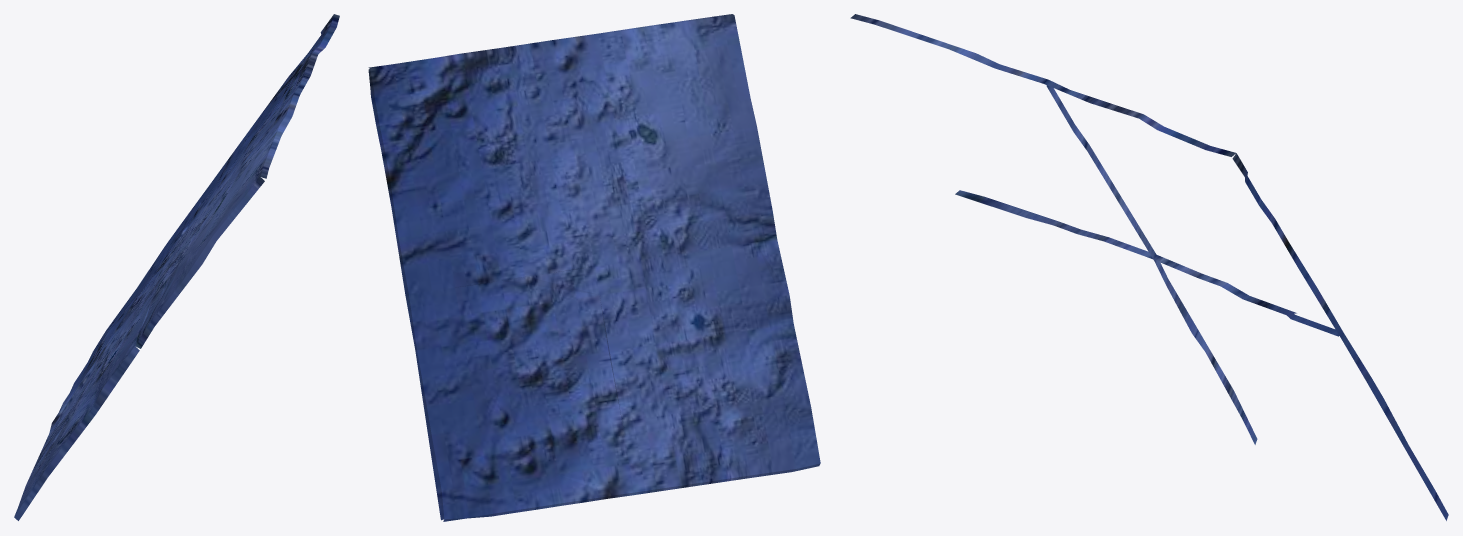
3 renders of one model, left to right at view 1: azimuth 30°, elevation 25°; view 2: azimuth 150°, elevation 25°; view 3: azimuth 270°, elevation 25°, orthographic. The views are drawn at different scales.
Bounding box in the file's own units: 303392 × 270027 × 312405.
1 material, 1 textured.
